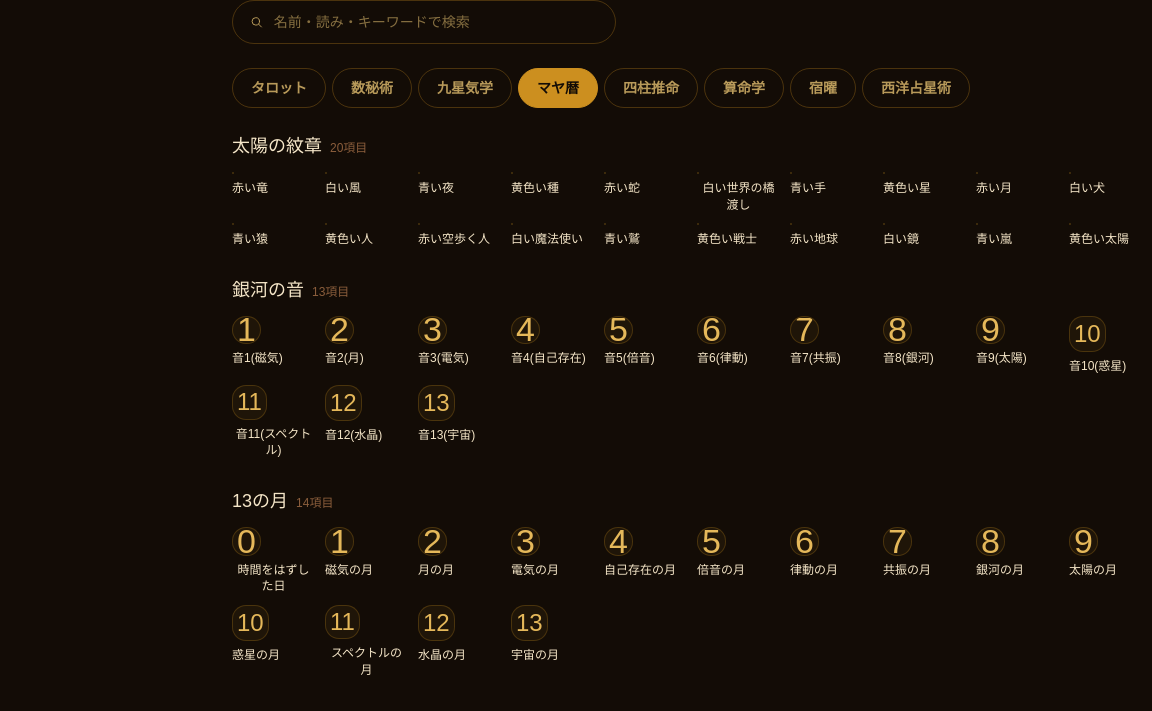
GuideBrowser › タイルを押すとページを移らずに詳細シートで開き、「詳しく見る」で詳細ページへ移れること
Click the button with aria-label "白い魔法使いの詳細を見る". click: (552, 235)
box: x1=511 y1=223 x2=594 y2=248
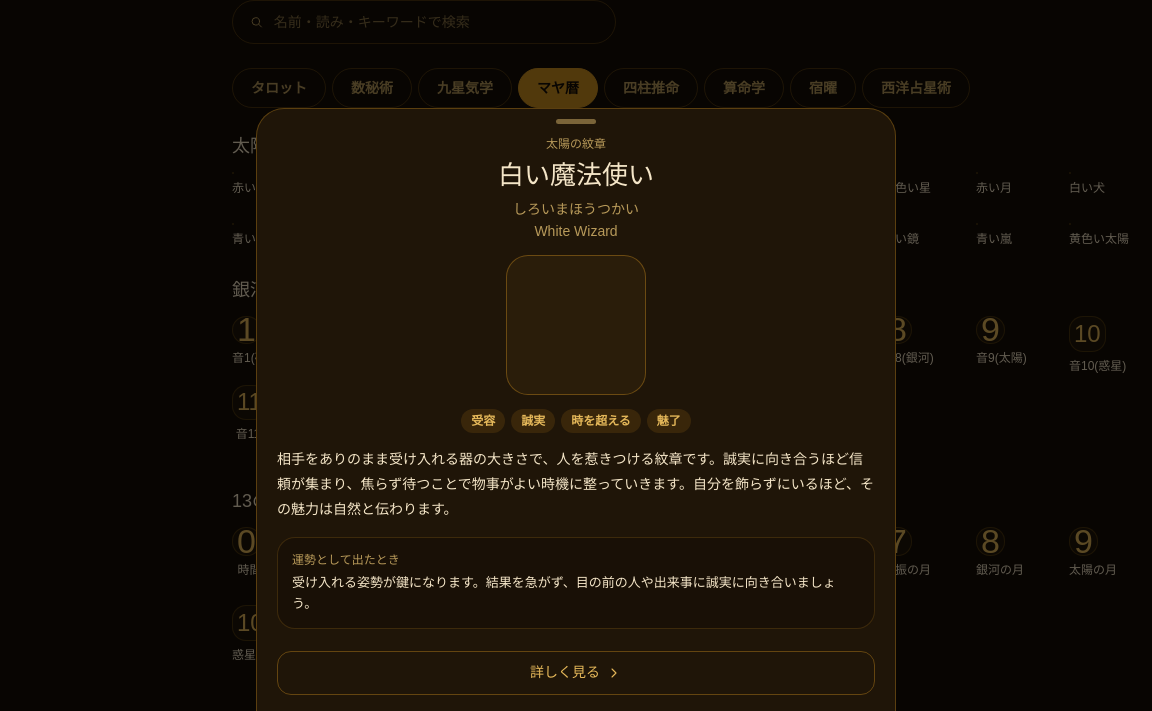
Check: the dialog "白い魔法使い" shows "しろいまほうつかい", box x1=513 y1=201 x2=639 y2=217
